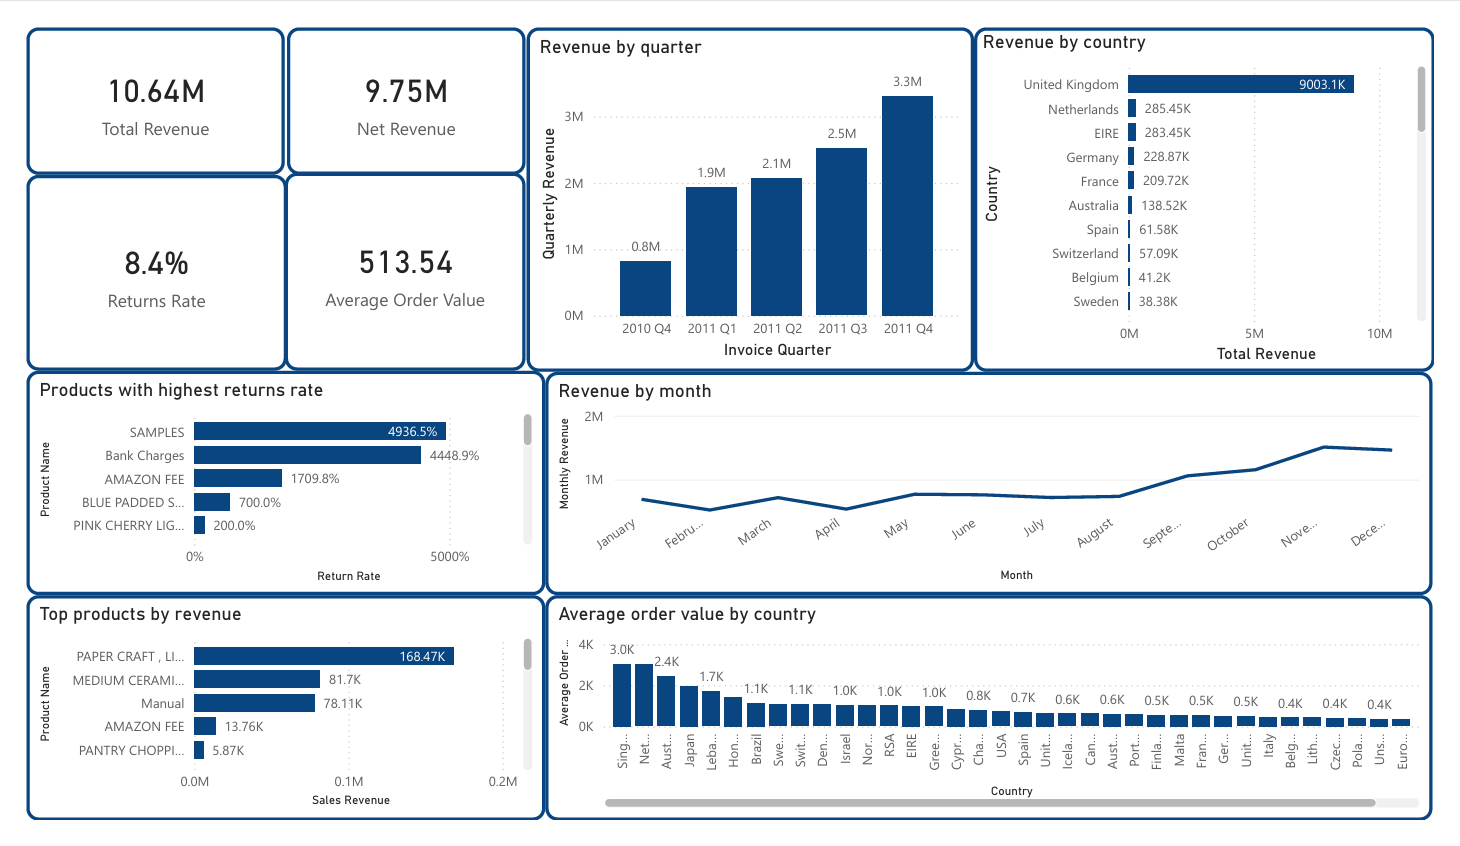

This screenshot's page, from the dashboard's own definition file:
{"tool":"powerbi","page":{"name":"Page 1","canvas":[1280,720],"ordinal":0},"visuals":[{"type":"lineChart","title":"Revenue by month","fields":{"Y":["Sum(revenue_by_month.monthly_revenue)"],"Category":["revenue_by_month.invoice_month.Variation.Date Hierarchy.Month"]},"box":[472.1,312.8,807,203.5],"z":0},{"type":"clusteredColumnChart","title":"Revenue by quarter","fields":{"Category":["quarterly_revenue.invoice_quarter"],"Y":["Sum(quarterly_revenue.quarterly_revenue)"]},"box":[454.7,0,407,312.8],"z":1000},{"type":"clusteredBarChart","title":"Top products by revenue","fields":{"Category":["returns_by_products.description"],"Y":["Sum(returns_by_products.sales_revenue)"]},"box":[0,516.2,472.1,204.4],"z":3000},{"type":"clusteredBarChart","title":"Products with highest returns rate","fields":{"Category":["returns_by_products.description"],"Y":["Sum(returns_by_products.returns_rate)"]},"box":[0,311.8,472.1,204.4],"z":4000},{"type":"clusteredBarChart","title":"Revenue by country","fields":{"Category":["countries_revenue.country"],"Y":["Sum(countries_revenue.total_revenue)"]},"box":[861.8,0,419.1,313.2],"z":5000},{"type":"clusteredColumnChart","title":"Average order value by country","fields":{"Category":["countries_revenue.country"],"Y":["Sum(countries_revenue.avg_order_value)"]},"box":[472.1,516.2,807.4,204.4],"z":6000},{"type":"card","fields":{"Values":["revenue_by_month.Total Revenue"]},"box":[0,0,235.3,133.8],"z":6001},{"type":"card","fields":{"Values":["returns_by_country.Net Revenue"]},"box":[236.8,0,217.6,133.8],"z":6002},{"type":"card","fields":{"Values":["returns_by_country.Returns Rate"]},"box":[0,133.8,236.8,177.9],"z":6003},{"type":"card","fields":{"Values":["order_value_bands.Average Order Value"]},"box":[235.3,132.4,219.1,179.4],"z":6004}]}

Visuals, with their boxes in screenshot pixels (x1, y1, x2, y2), scaled from the page's 1280x720 canvas onto the 1460x846 screenshot:
"Revenue by month" lineChart: detection(538, 368, 1459, 607)
"Revenue by quarter" clusteredColumnChart: detection(519, 0, 983, 368)
"Top products by revenue" clusteredBarChart: detection(0, 607, 538, 845)
"Products with highest returns rate" clusteredBarChart: detection(0, 366, 538, 607)
"Revenue by country" clusteredBarChart: detection(983, 0, 1459, 368)
"Average order value by country" clusteredColumnChart: detection(538, 607, 1459, 845)
card - revenue_by_month.Total Revenue: detection(0, 0, 268, 157)
card - returns_by_country.Net Revenue: detection(270, 0, 518, 157)
card - returns_by_country.Returns Rate: detection(0, 157, 270, 366)
card - order_value_bands.Average Order Value: detection(268, 156, 518, 366)
